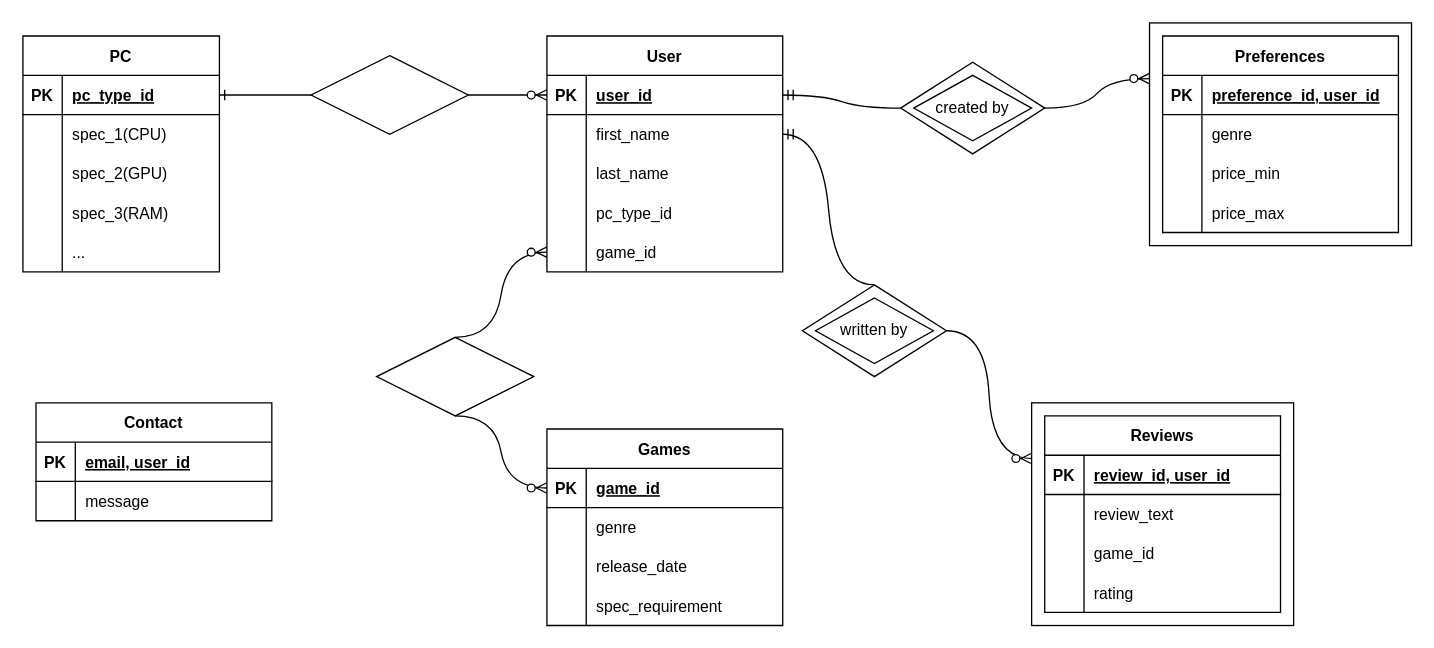
Some shapes in this 1434 by 648 pixel diagram are drawn without their labels. The shapes that lost their labels are listed below. From the top down, each one's centre as x and y in pixels, then its label:
(389,94): contains
(454,376): Own
